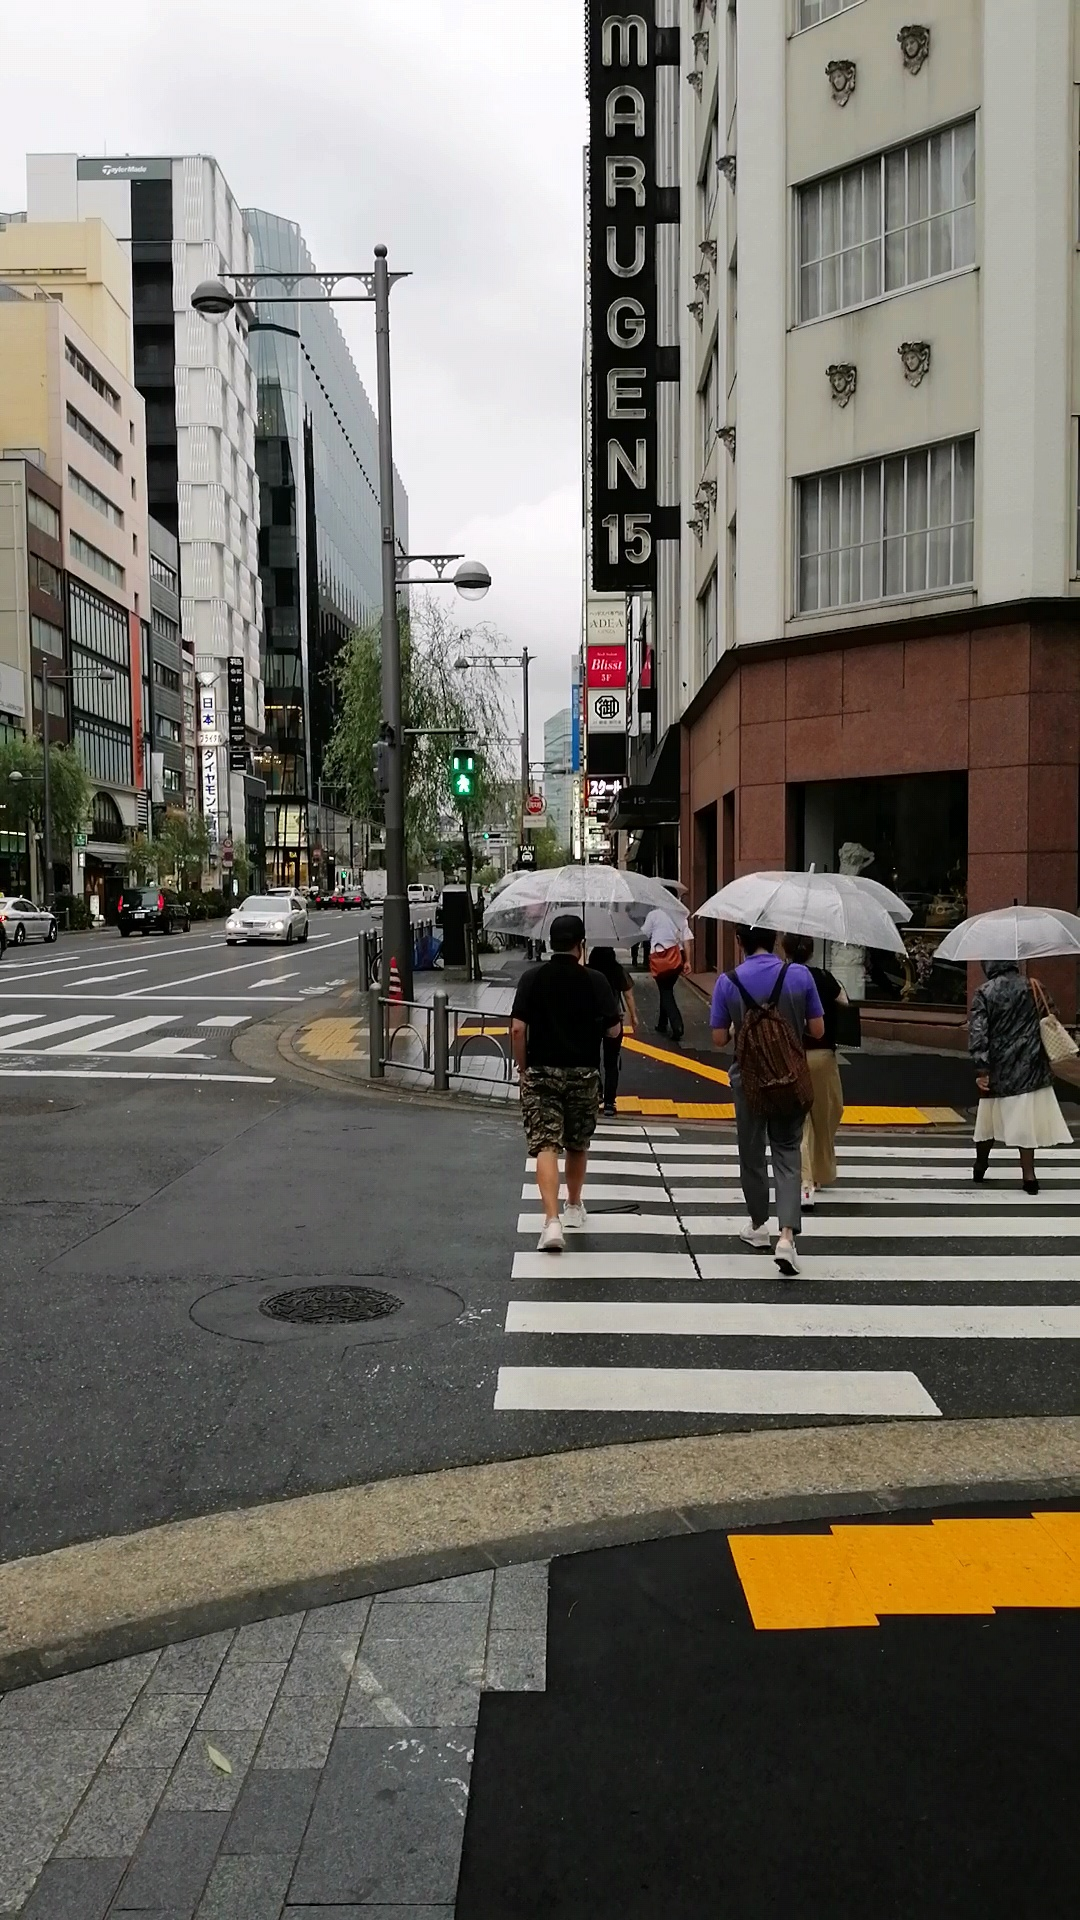green: (448, 748, 477, 799)
